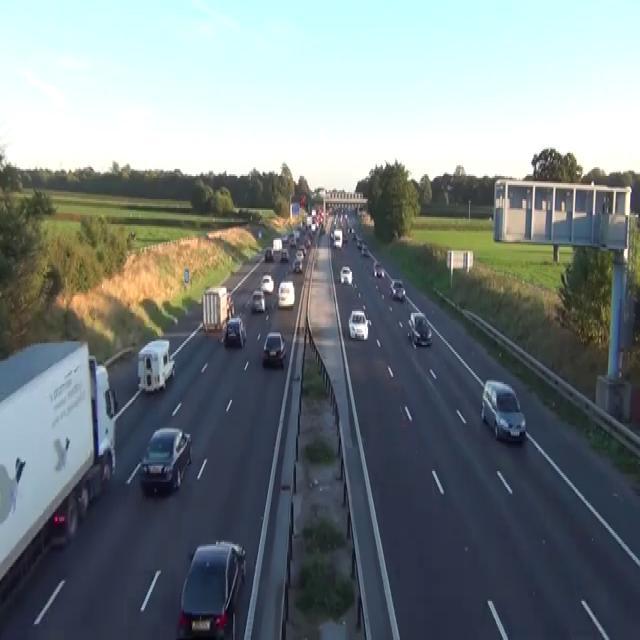Car: (175, 539, 246, 638), (138, 427, 192, 492), (480, 378, 526, 442), (407, 311, 432, 347), (262, 331, 286, 366), (223, 316, 246, 346), (348, 310, 368, 340), (277, 281, 295, 307), (390, 278, 405, 300), (251, 290, 265, 313), (260, 274, 274, 293), (340, 265, 352, 284), (373, 260, 384, 278), (226, 295, 234, 317), (292, 258, 302, 272), (272, 237, 282, 250), (264, 247, 273, 261), (280, 247, 289, 261), (357, 206, 364, 219), (295, 249, 304, 259), (361, 244, 368, 256), (376, 267, 384, 277), (356, 236, 362, 249), (282, 233, 289, 243), (289, 235, 296, 245), (304, 238, 310, 249), (347, 226, 354, 234), (310, 222, 316, 231), (257, 228, 262, 238), (294, 230, 299, 238)
Truck: (0, 338, 117, 610), (137, 338, 175, 393), (202, 284, 234, 332), (333, 228, 343, 247)
